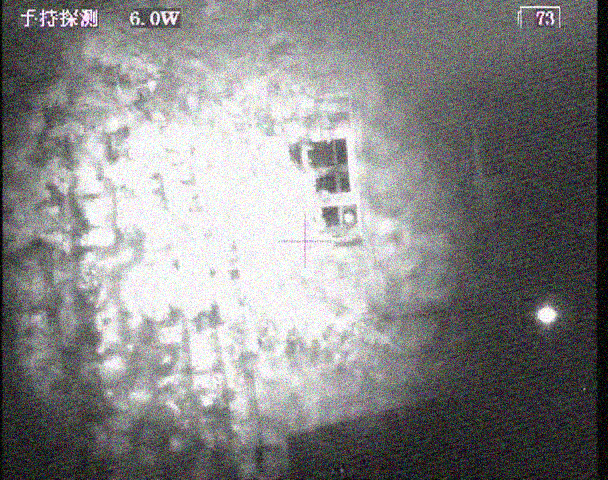my: (343, 211, 356, 224)
